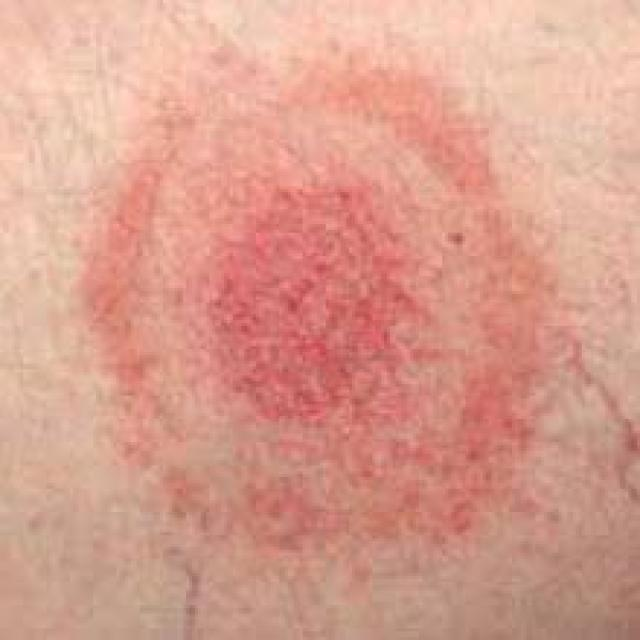kene: (62, 49, 550, 521)
